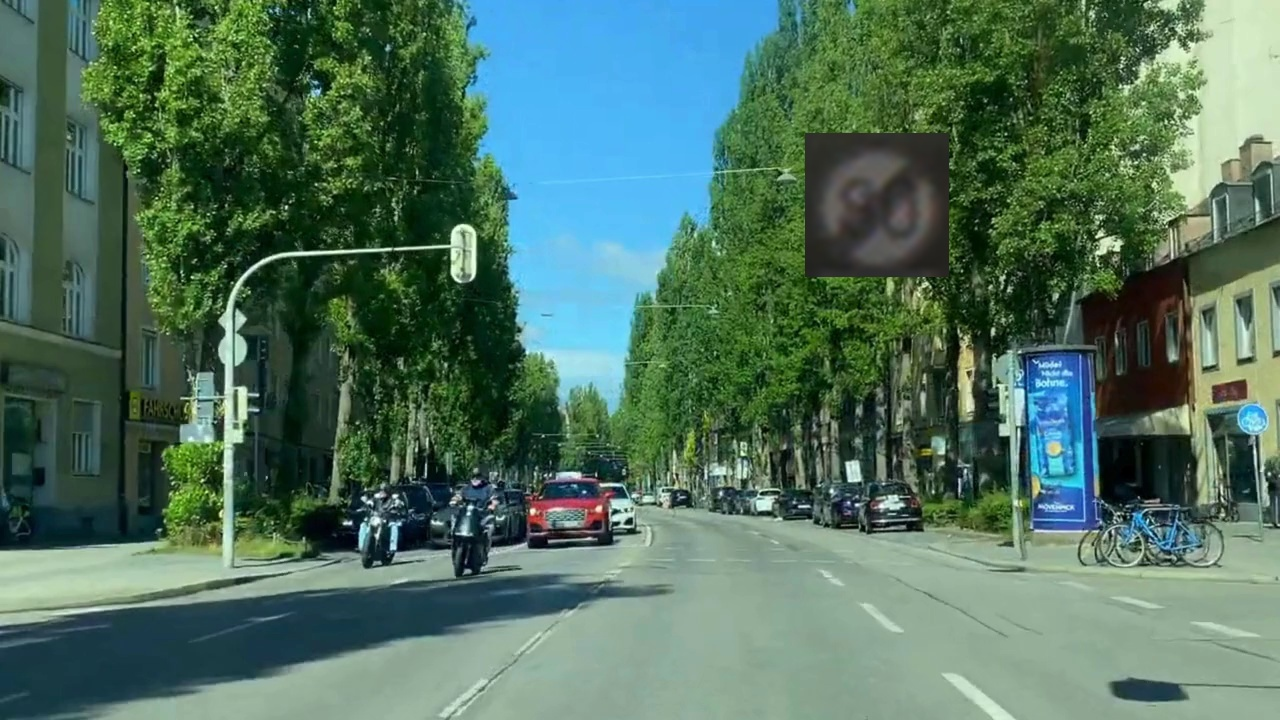End Speed 80: (805, 133, 949, 277)
